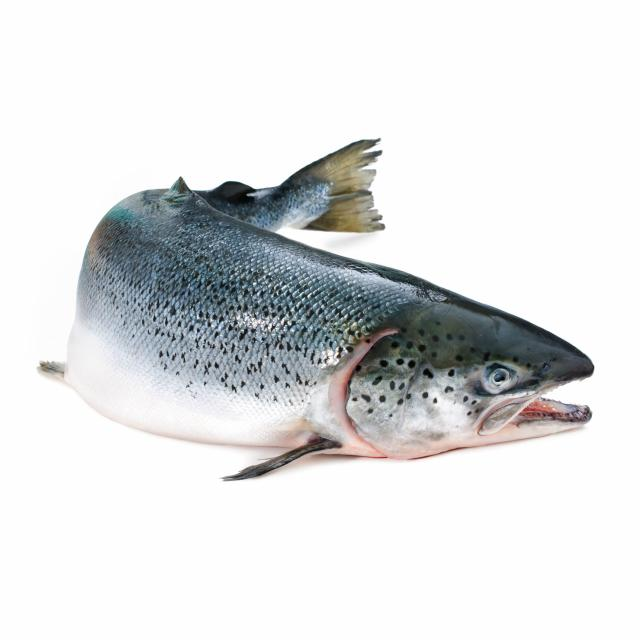salmon: (19, 125, 613, 511)
